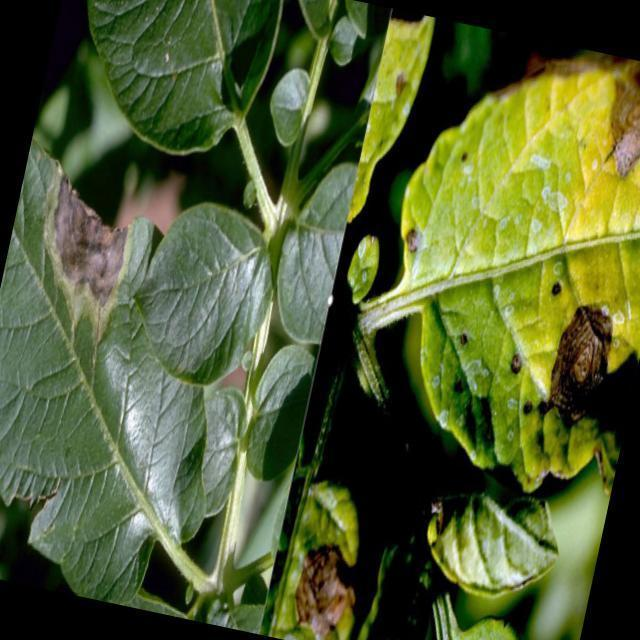Healthy Leaf: (120, 185, 284, 391)
